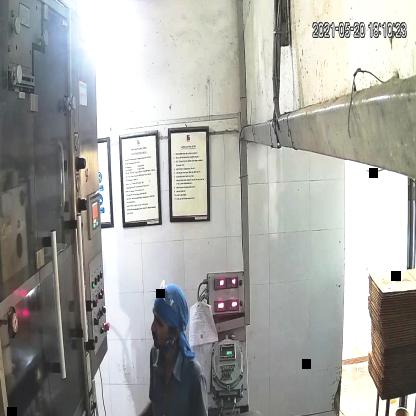no_goggles: (146, 312, 180, 332)
